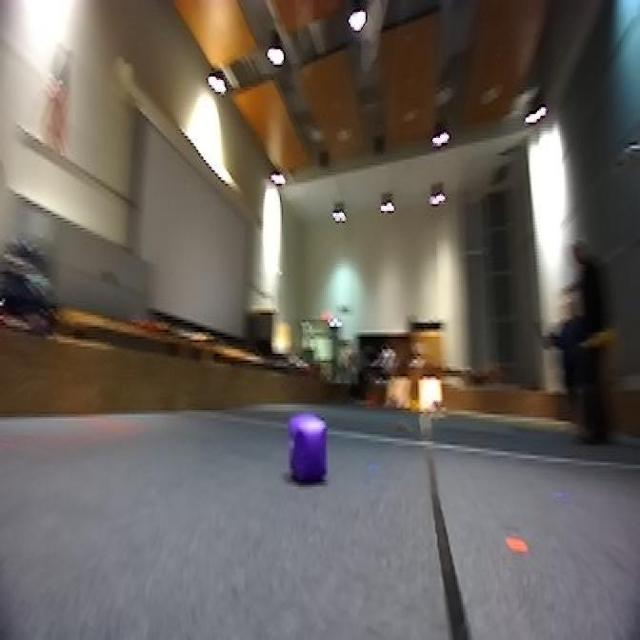frc_cube: (286, 412, 330, 487)
